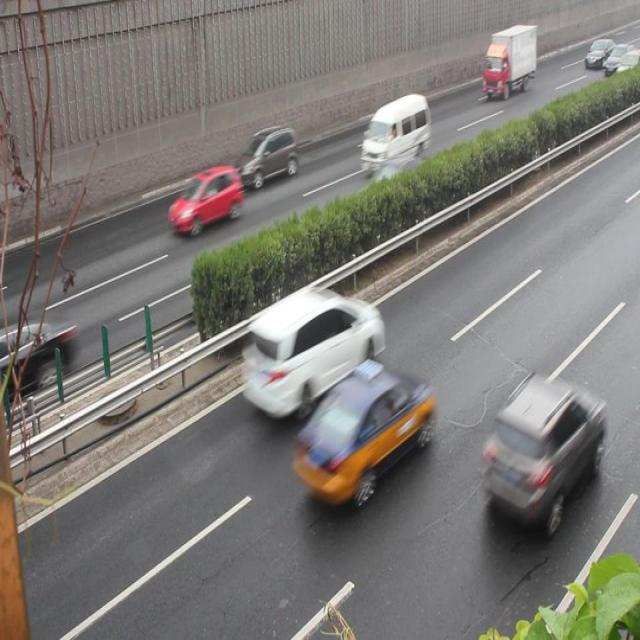bus: (482, 25, 537, 98)
car: (292, 364, 433, 506), (481, 371, 602, 529), (241, 285, 382, 418), (1, 318, 76, 402), (352, 155, 428, 229), (167, 166, 244, 232), (234, 127, 300, 189)
truck: (360, 94, 429, 175)
